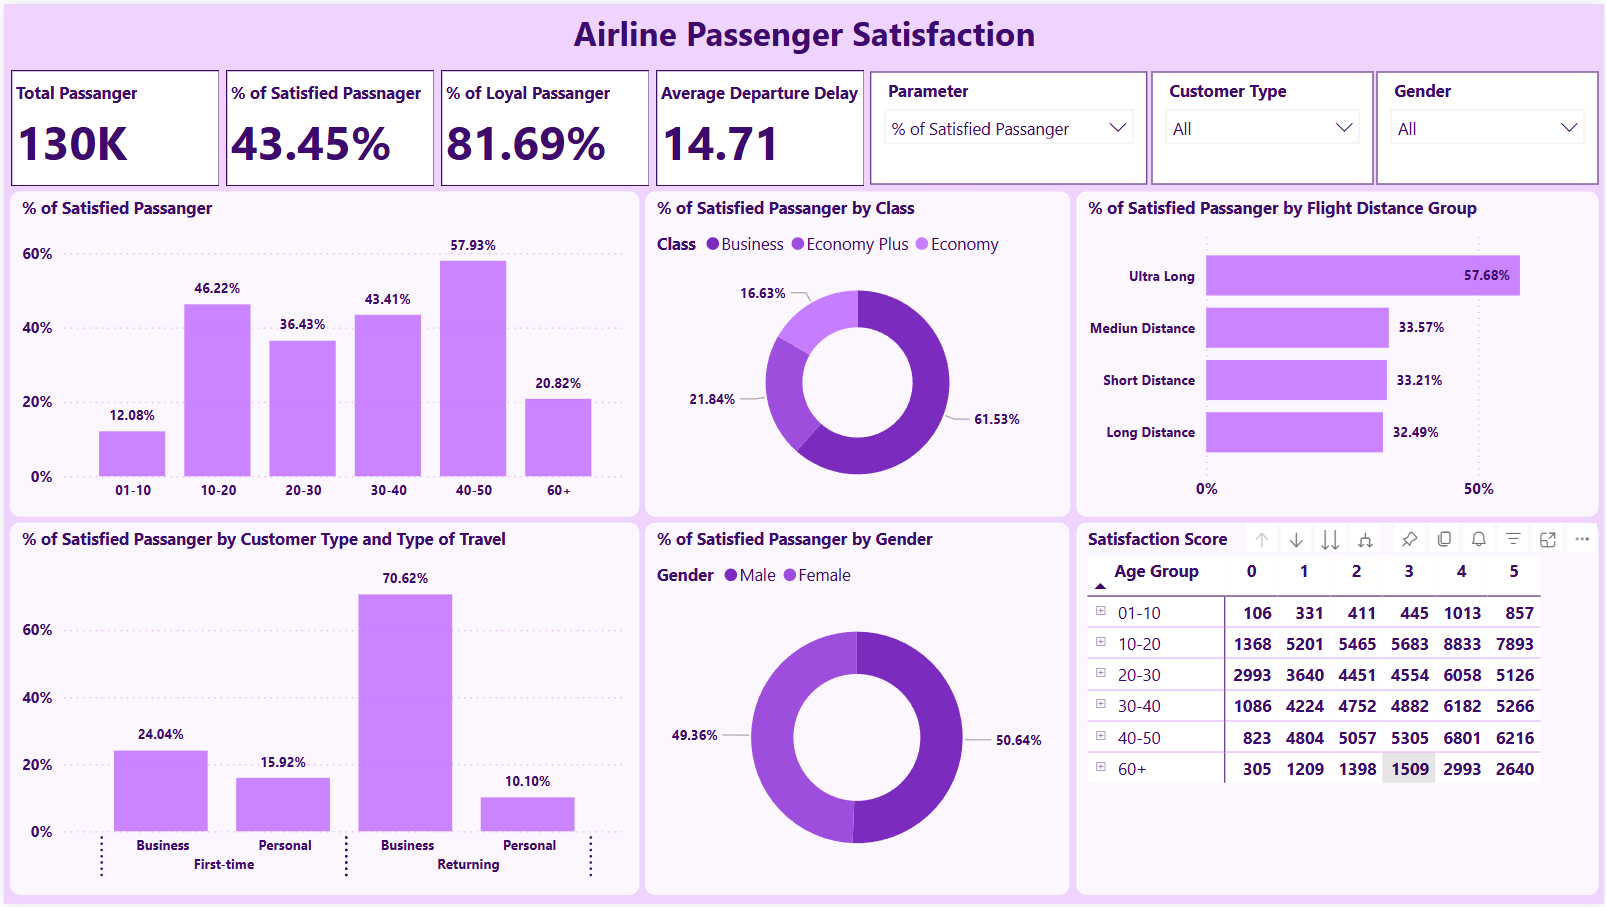

This screenshot's page, from the dashboard's own definition file:
{"tool":"powerbi","page":{"name":"Airline Passenger Satisfaction","canvas":[1280,720],"ordinal":0},"visuals":[{"type":"cardVisual","fields":{"Data":["Measures Table.Total Passanger","Measures Table.% of Satisfied","Measures Table.% of repeting Passanger","Measures Table.Average Departure Delay","Measures Table.% of repeting Passanger"]},"box":[0,47.6,693.3,102.8],"z":0,"group":"g1"},{"type":"donutChart","fields":{"Y":["Measures Table.% of Satisfied"],"Category":["Airline Passenger Satisfaction.Class"]},"box":[512.6,150.4,340,259.5],"z":0},{"type":"slicer","fields":{"Values":["Parameter.Parameter"]},"box":[693.3,53.9,220.6,90.3],"z":1000,"group":"g1"},{"type":"clusteredColumnChart","fields":{"Y":["Measures Table.% of Satisfied"],"Category":["Airline Passenger Satisfaction.Customer Type","Airline Passenger Satisfaction.Type of Travel"]},"box":[5,415,502.7,298.4],"z":1000},{"type":"slicer","fields":{"Values":["Airline Passenger Satisfaction.Gender"]},"box":[1098.2,53.9,176.8,90.3],"z":2000,"group":"g1"},{"type":"clusteredColumnChart","fields":{"Y":["Measures Table.% of Satisfied"],"Category":["Airline Passenger Satisfaction.Age Group"]},"box":[5,150.4,502.7,259.5],"z":2000},{"type":"donutChart","fields":{"Y":["Measures Table.% of Satisfied"],"Category":["Airline Passenger Satisfaction.Gender"]},"box":[512.8,415,339.7,298.4],"z":3000},{"type":"clusteredBarChart","fields":{"Y":["Measures Table.% of Satisfied"],"Category":["Airline Passenger Satisfaction.Flight Distance Group"]},"box":[857.5,150.4,417.5,259.5],"z":4000},{"type":"pivotTable","title":"Satisfaction Score","fields":{"Rows":["Airline Passenger Satisfaction.Age Group","Airline Passenger Satisfaction.Class","Airline Passenger Satisfaction.Customer Type"],"Values":["Measures Table.Total Passanger"],"Columns":["Airline Passenger Satisfaction.Departure and Arrival Time Convenience"]},"box":[857.5,415,417.5,298.4],"z":5000},{"type":"textbox","box":[0,0,1280,47.6],"z":6000},{"type":"slicer","fields":{"Values":["Airline Passenger Satisfaction.Customer Type"]},"box":[917.6,53.9,177,90.3],"z":7001,"group":"g1"},{"type":"group","id":"g1","title":"Group 1","box":[0,47.6,1275,102.8],"z":7002}]}

Visuals, with their boxes in screenshot pixels (x1, y1, x2, y2), scaled from the page's 1280x720 canvas onto the 1606x907 screenshot:
cardVisual - Measures Table.Total Passanger x Measures Table.% of Satisfied: [x1=0, y1=60, x2=870, y2=189]
donutChart - Measures Table.% of Satisfied x Airline Passenger Satisfaction.Class: [x1=643, y1=189, x2=1070, y2=516]
slicer - Parameter.Parameter: [x1=870, y1=68, x2=1147, y2=182]
clusteredColumnChart - Measures Table.% of Satisfied x Airline Passenger Satisfaction.Customer Type: [x1=6, y1=523, x2=637, y2=899]
slicer - Airline Passenger Satisfaction.Gender: [x1=1378, y1=68, x2=1600, y2=182]
clusteredColumnChart - Measures Table.% of Satisfied x Airline Passenger Satisfaction.Age Group: [x1=6, y1=189, x2=637, y2=516]
donutChart - Measures Table.% of Satisfied x Airline Passenger Satisfaction.Gender: [x1=643, y1=523, x2=1070, y2=899]
clusteredBarChart - Measures Table.% of Satisfied x Airline Passenger Satisfaction.Flight Distance Group: [x1=1076, y1=189, x2=1600, y2=516]
"Satisfaction Score" pivotTable: [x1=1076, y1=523, x2=1600, y2=899]
textbox: [x1=0, y1=0, x2=1605, y2=60]
slicer - Airline Passenger Satisfaction.Customer Type: [x1=1151, y1=68, x2=1373, y2=182]
"Group 1" group: [x1=0, y1=60, x2=1600, y2=189]
